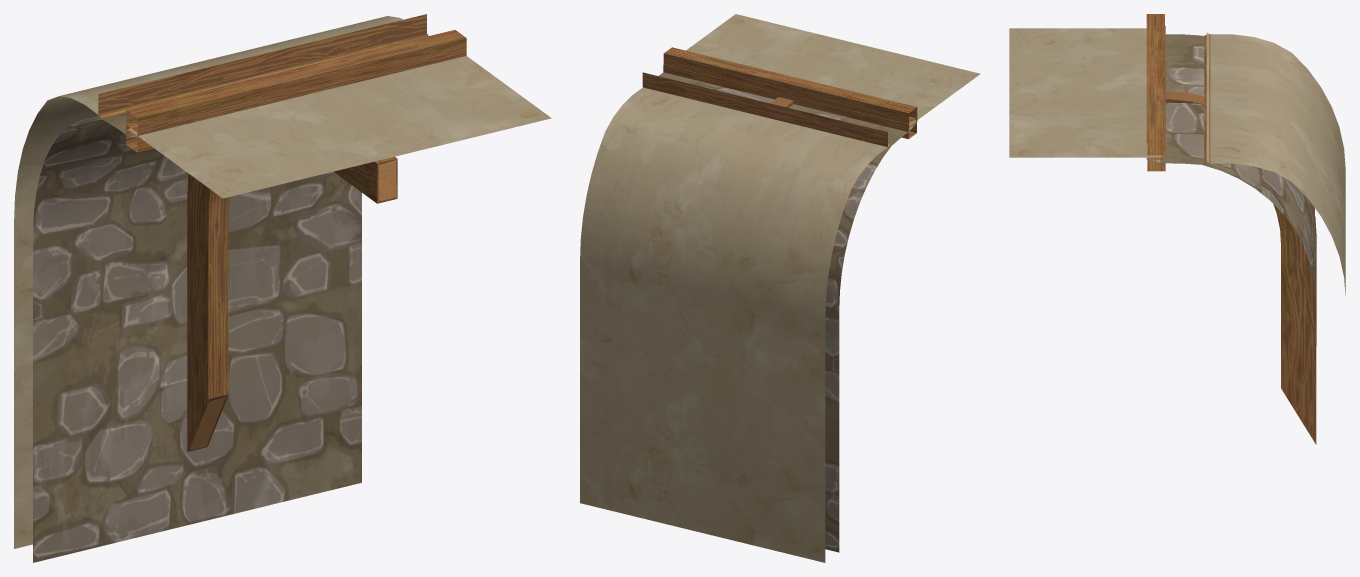
File: Overhang_UnevenBrick_Long.gltf
3 renders of one model, left to right at view 1: azimuth 30°, elevation 25°; view 2: azimuth 150°, elevation 25°; view 3: azimuth 270°, elevation 25°, orthographic. The views are drawn at different scales.
Parts seen in each view (by area): view 1: Overhang_UnevenBrick_Long; view 2: Overhang_UnevenBrick_Long; view 3: Overhang_UnevenBrick_Long.
Boxes of the visible parts, x1=… form: Overhang_UnevenBrick_Long: x1=14, y1=14, x2=551, y2=562; Overhang_UnevenBrick_Long: x1=580, y1=14, x2=980, y2=562; Overhang_UnevenBrick_Long: x1=1009, y1=14, x2=1345, y2=444.
Bounding box in the file's own units: 2 × 3.03 × 2.2.
Materials: 3 (3 with a texture image).
